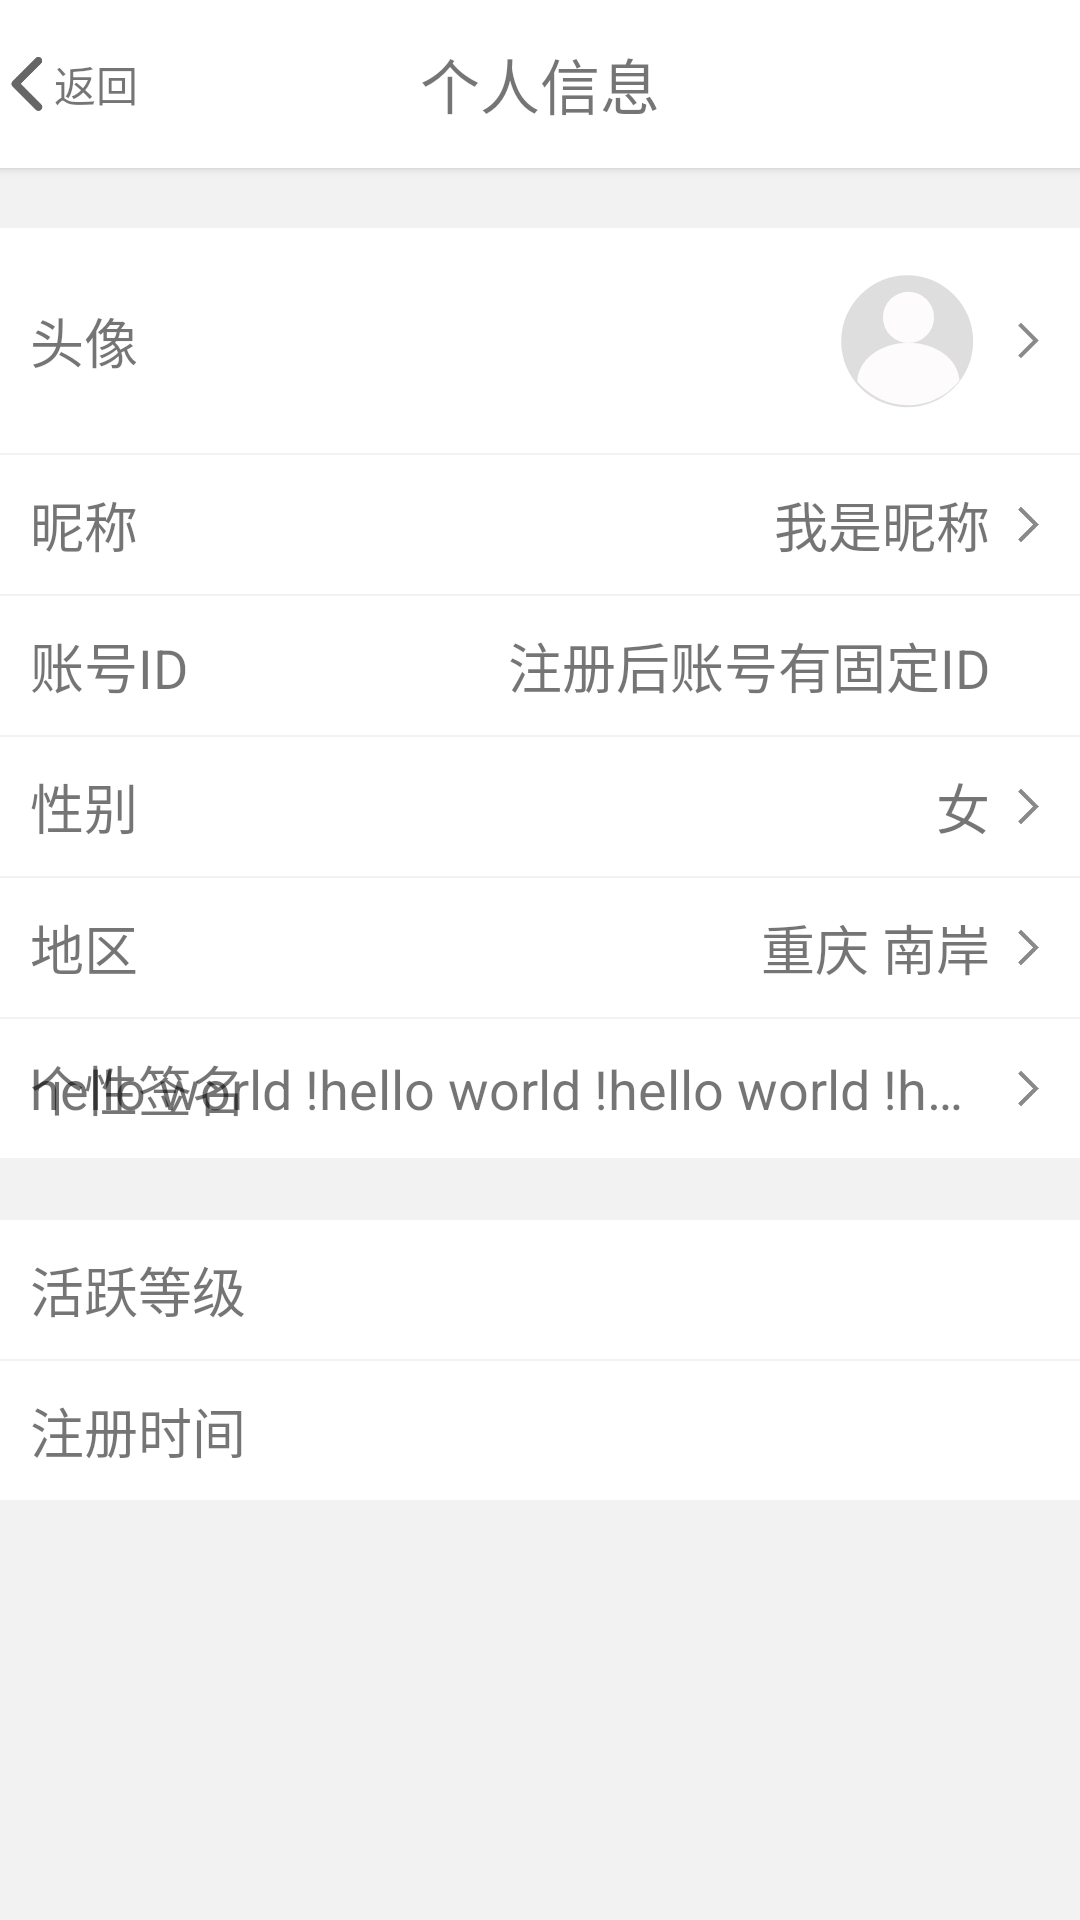

Screen size 1080px x 1920px. Icon name, then its center in pixels as point (x, y):
head: point (907, 341)
